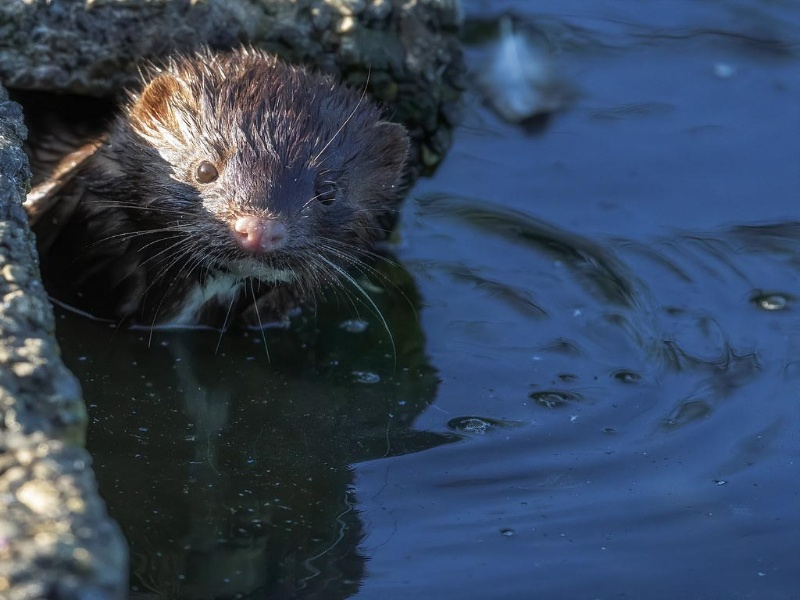minkish: (12, 42, 414, 334)
